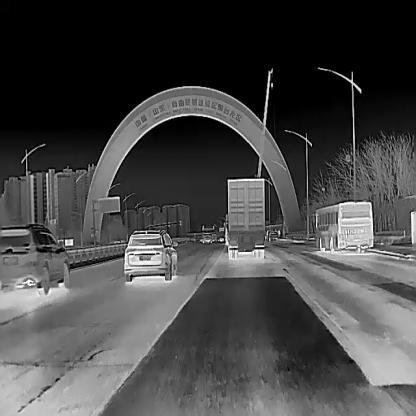car: (1, 223, 70, 295), (315, 201, 373, 254), (226, 178, 264, 258), (123, 229, 177, 280), (266, 229, 277, 241), (202, 233, 211, 243)
